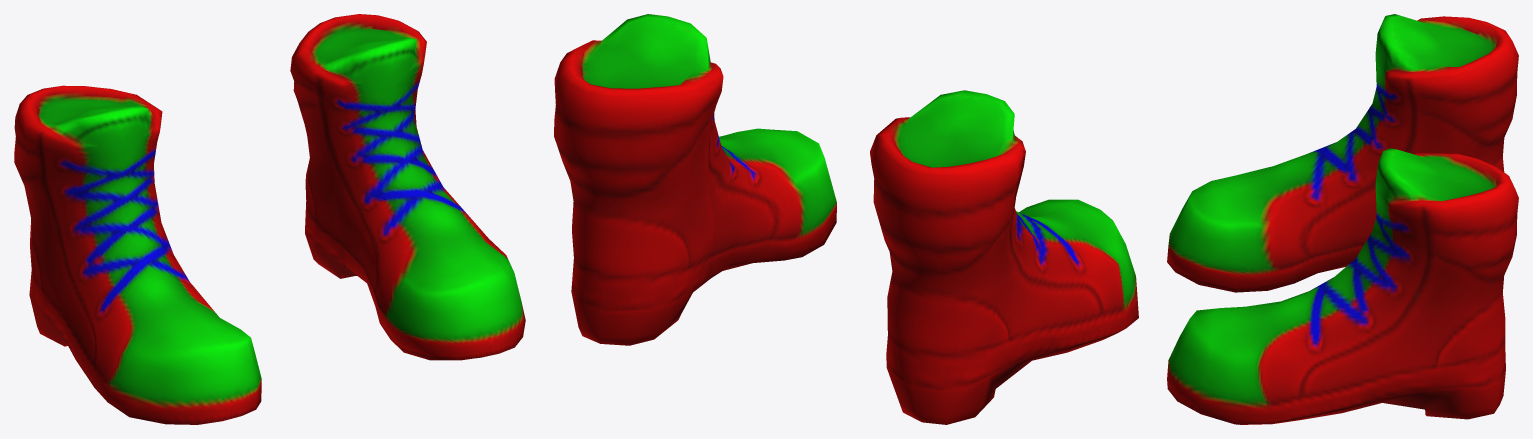
Rendered from Feet_HeeledBoots.obj.
3 renders of one model, left to right at view 1: azimuth 30°, elevation 25°; view 2: azimuth 150°, elevation 25°; view 3: azimuth 270°, elevation 25°, orthographic. The views are drawn at different scales.
Parts seen in each view (by area): view 1: Feet_HeeledBoots_0; view 2: Feet_HeeledBoots_0; view 3: Feet_HeeledBoots_0.
Boxes of the visible parts, <box> form: Feet_HeeledBoots_0: <box>14,14,525,424</box>; Feet_HeeledBoots_0: <box>554,14,1138,424</box>; Feet_HeeledBoots_0: <box>1167,14,1518,424</box>.
Bounding box in the file's own units: 0.3368 × 0.1931 × 0.2515.
1 material, 1 textured.
